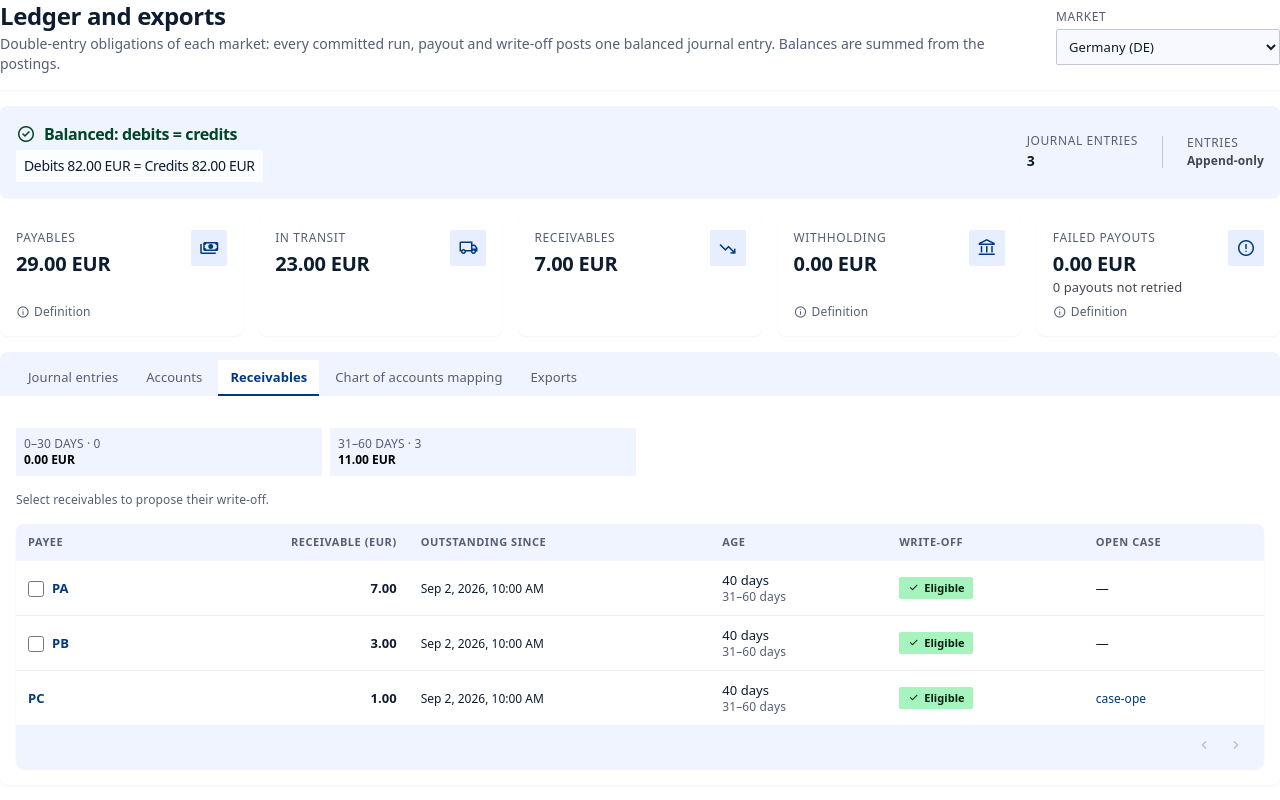
Test: LedgerPage (SC-33) › proposes a write-off: preview of count and total, then one case per payee opened and submitted
This screenshot has width=1280, height=800.
Expected: the text "31–60 days · 3" is shown, x1=338 y1=435 x2=421 y2=452
Click the checkbox named "Select PA" at (36, 588), box x1=28 y1=580 x2=44 y2=596
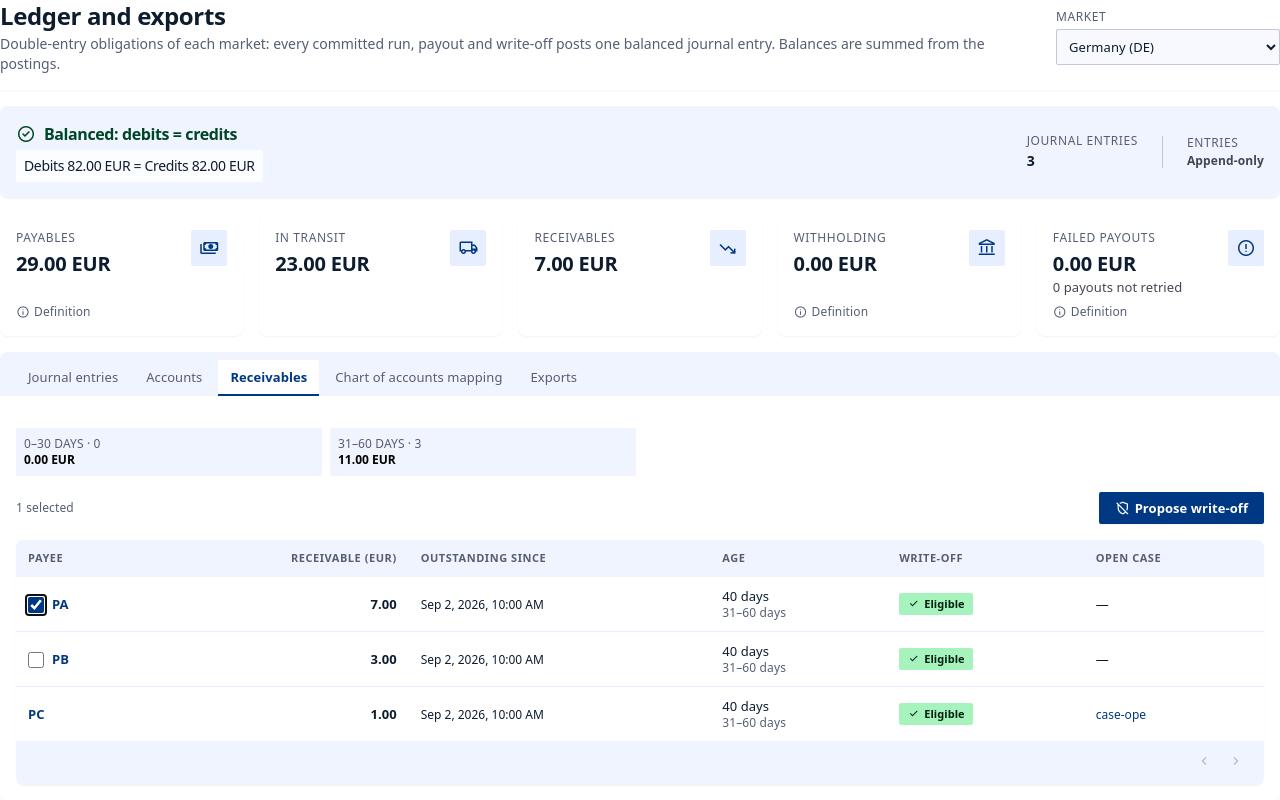
Click the checkbox named "Select PB" at (36, 660), box x1=28 y1=652 x2=44 y2=668
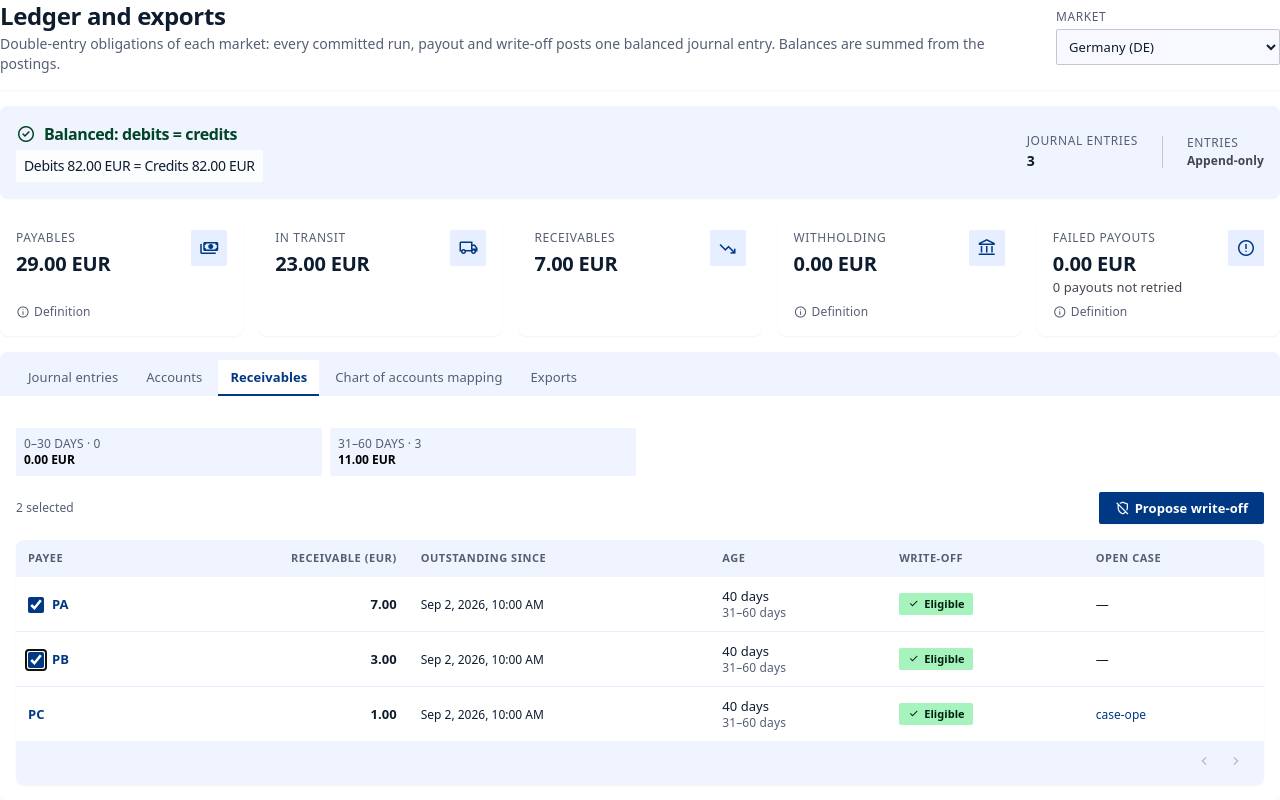
Click the button "Propose write-off" at (1181, 508), box x1=1099 y1=492 x2=1264 y2=524
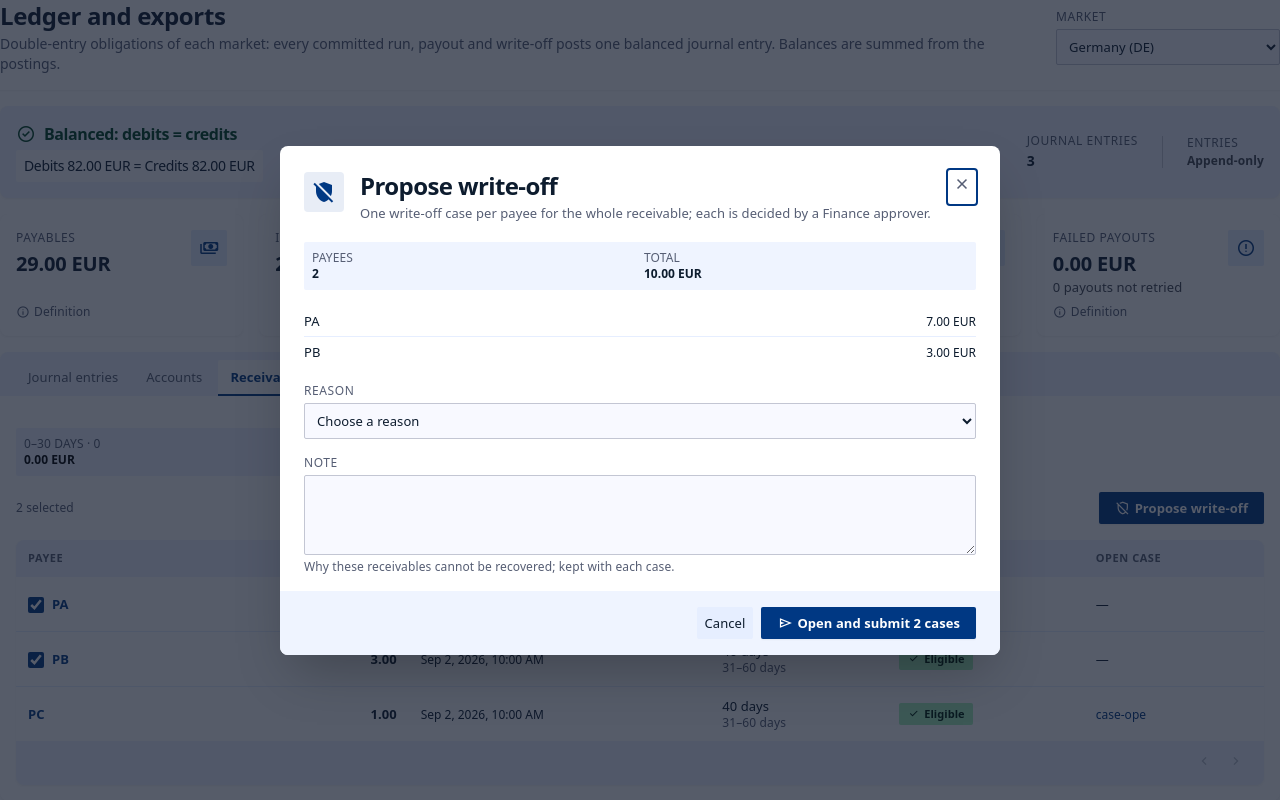
Now the element with test id "write-off-preview" shows "2", box x1=312 y1=264 x2=319 y2=282
Now the element with test id "write-off-preview" shows "10.00 EUR", box x1=644 y1=264 x2=702 y2=282
Click the button "Open and submit 2 cases" at (869, 622), box x1=761 y1=606 x2=976 y2=638
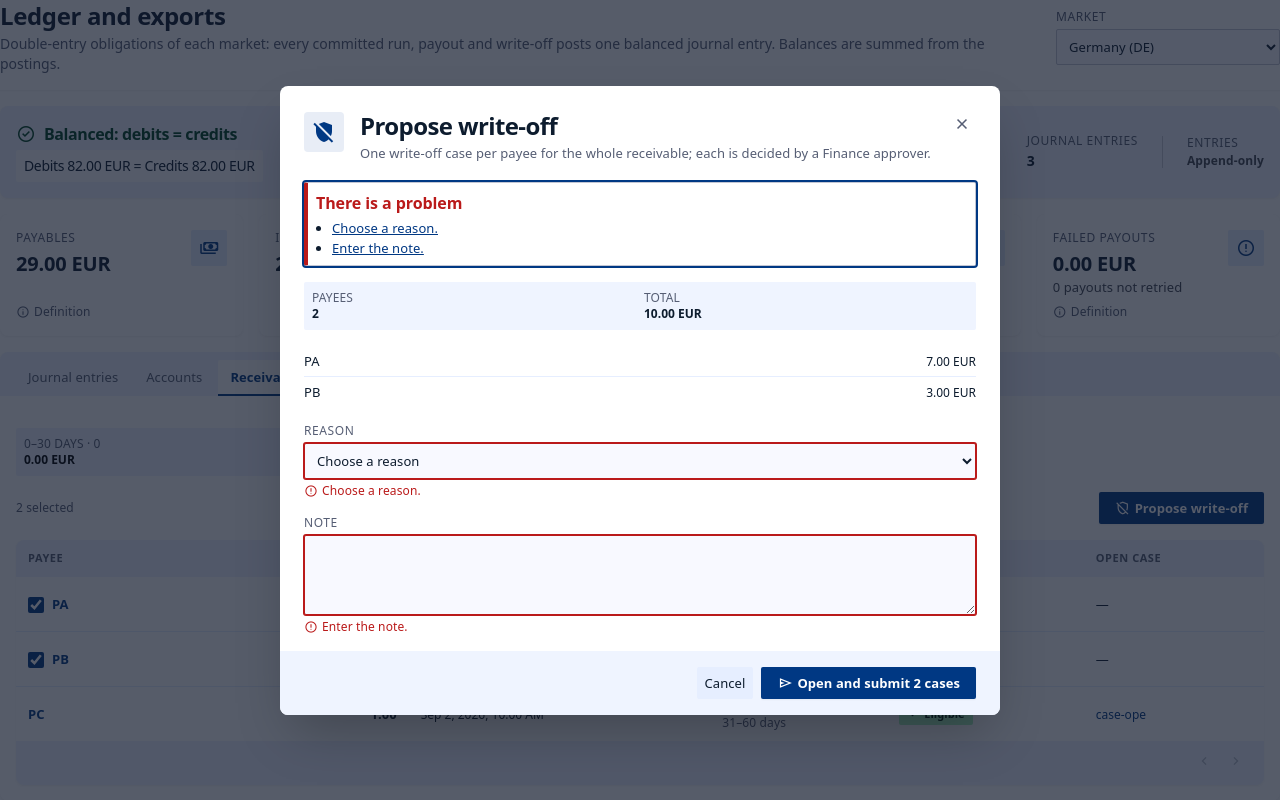
Select "Unrecoverable" in the dropdown labelled "Reason" at (640, 460), box x1=304 y1=442 x2=976 y2=478
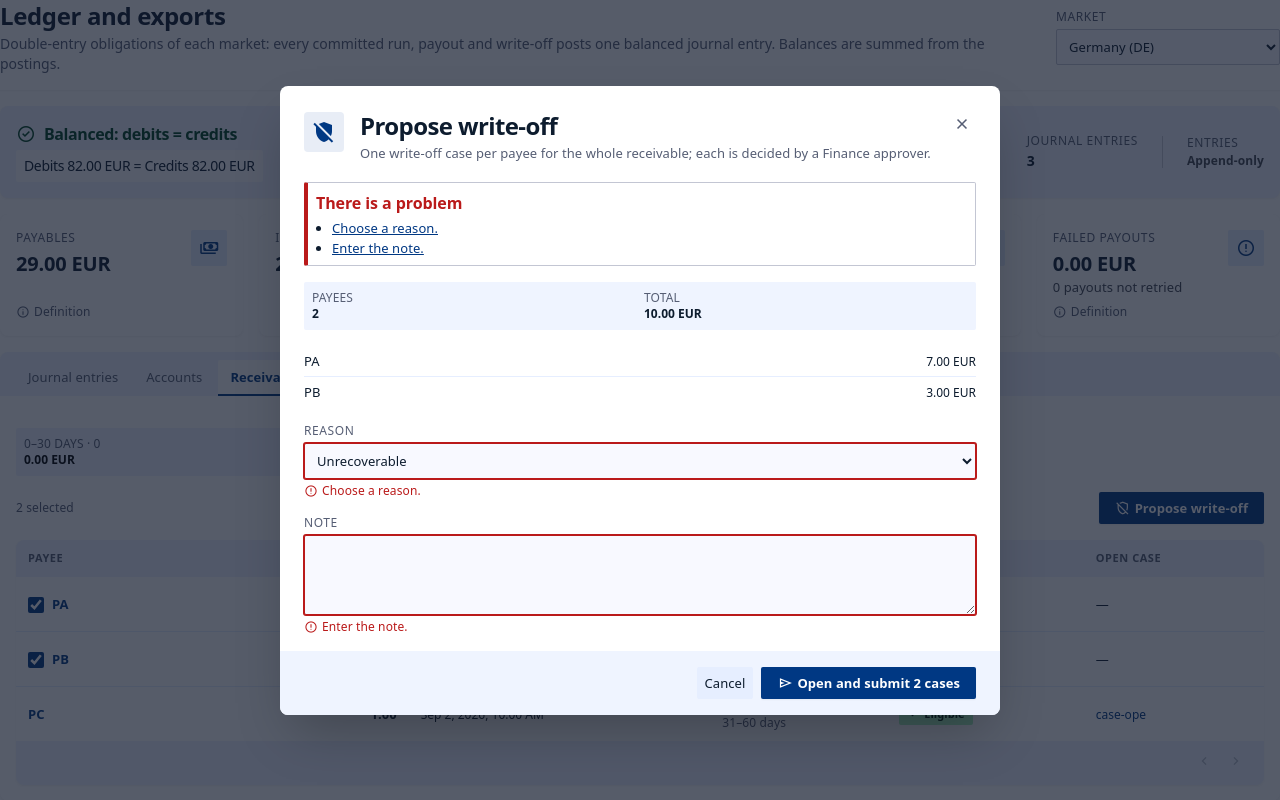
Type "Left the business" into the text box labelled "Note" at (640, 574), box x1=304 y1=534 x2=976 y2=614
Click the button "Open and submit 2 cases" at (869, 682), box x1=761 y1=666 x2=976 y2=698
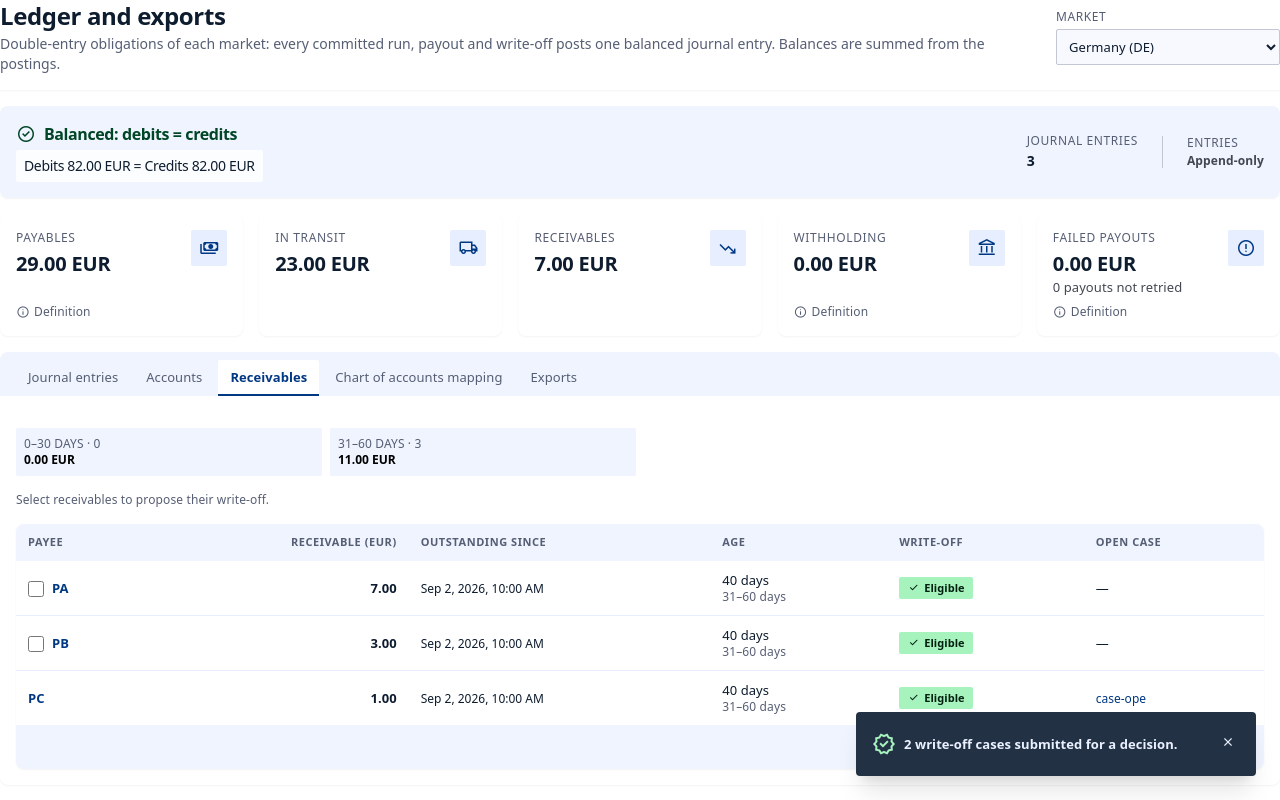
Now the text "2 write-off cases submitted for a decision." is shown, box x1=904 y1=735 x2=1208 y2=753
